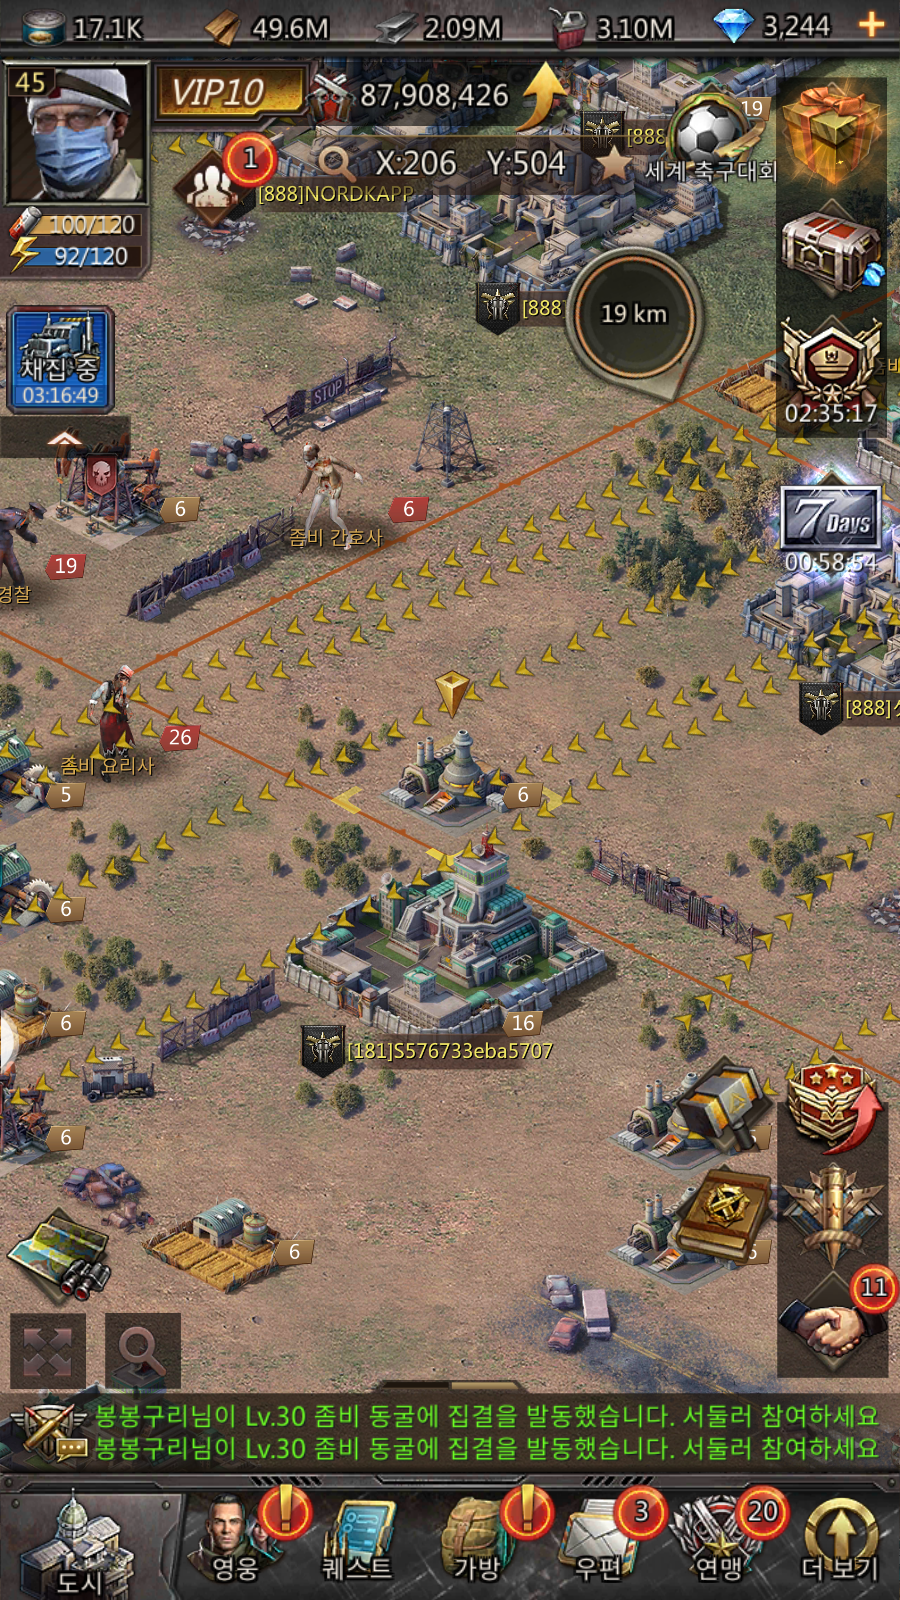city: (1, 1478, 181, 1600)
occupied_steel: (324, 658, 585, 895)
open_panel: (85, 1291, 224, 1400)
troops_cnt_1: (165, 116, 287, 247)
